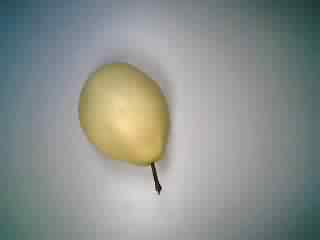pear: (66, 55, 187, 200)
